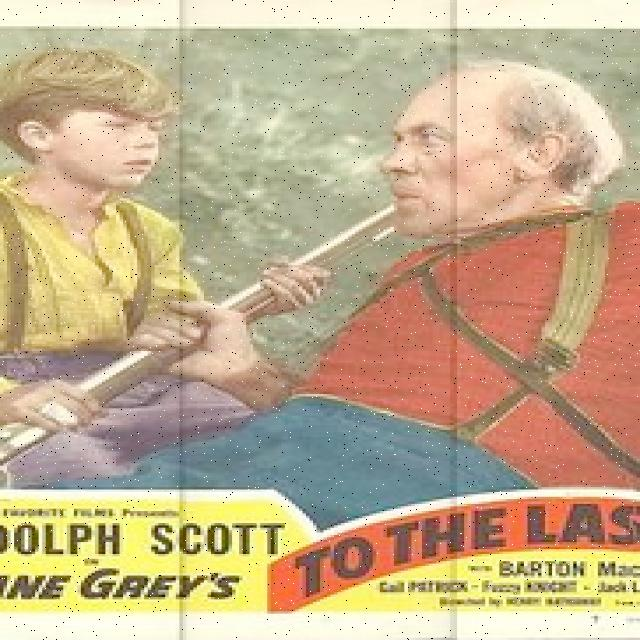movie-judul: (263, 495, 640, 612)
picture: (2, 27, 640, 490)
